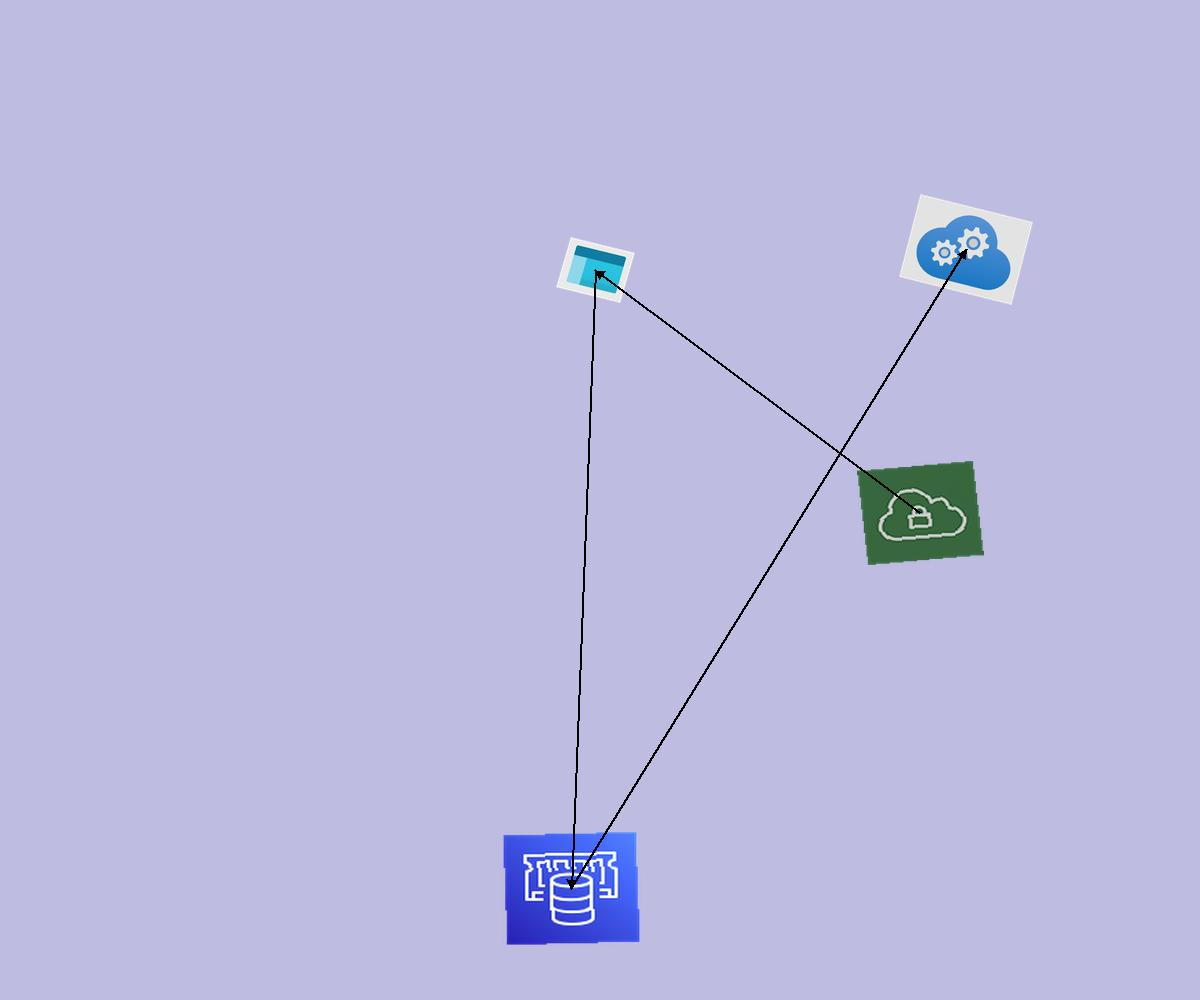AWS-ElastiCache: (502, 831, 641, 946)
AWS-Private_vpc: (857, 460, 984, 566)
Azure_cloud_services: (899, 194, 1033, 305)
Azure_management-portal: (556, 237, 635, 303)
